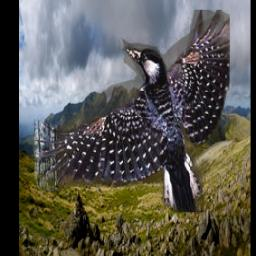Woodpecker: (34, 11, 230, 213)
